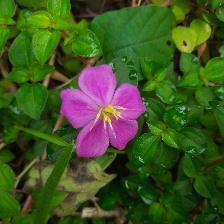malabar melastome: (59, 65, 152, 158)
